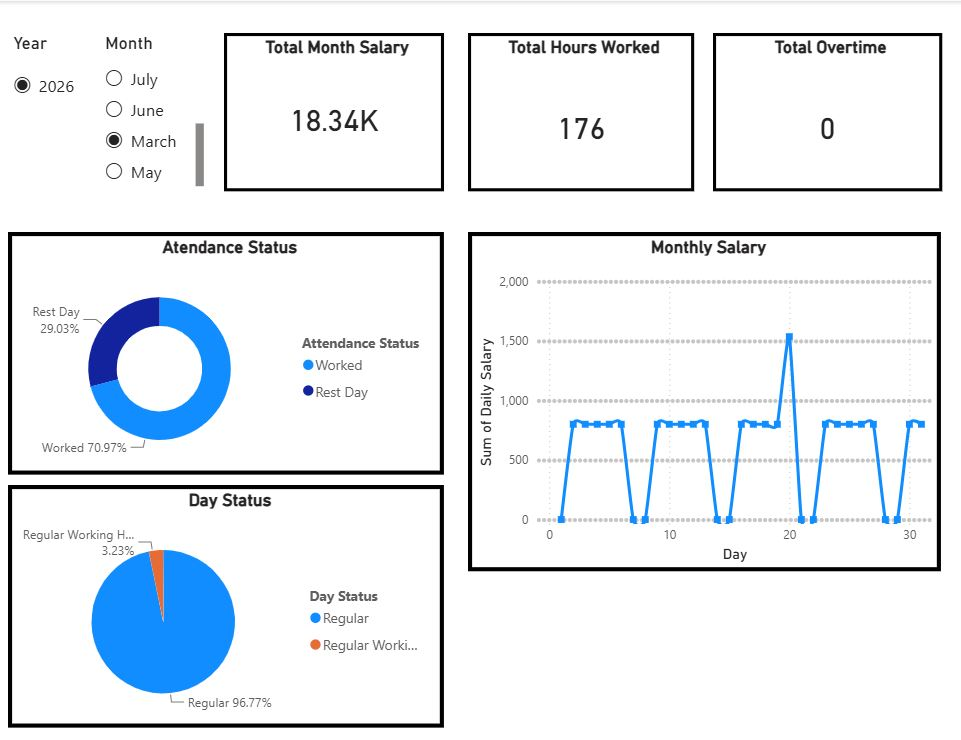

This screenshot's page, from the dashboard's own definition file:
{"tool":"powerbi","page":{"name":"Page 1","canvas":[1280,720],"ordinal":0},"visuals":[{"type":"kpi","title":"Total Month Salary","fields":{"Indicator":["Sum(Daily Time Record.Daily Salary)"],"TrendLine":["Daily Time Record.Month"]},"box":[220,31.4,214.3,154.3],"z":0},{"type":"listSlicer","fields":{"Values":["Daily Time Record.Month"]},"box":[99.2,31.1,106,154.7],"z":1000},{"type":"listSlicer","fields":{"Values":["Daily Time Record.Year"]},"box":[9.7,31.1,89.5,154.7],"z":2000},{"type":"kpi","title":"Total Hours Worked","fields":{"Indicator":["Sum(Daily Time Record.Work Hours)"],"TrendLine":["Daily Time Record.Month"]},"box":[457.1,31.4,220,154.3],"z":3000},{"type":"kpi","title":"Total Overtime","fields":{"Indicator":["Sum(Daily Time Record.Overtime)"],"TrendLine":["Calendaryo.Month"]},"box":[695.7,31.4,222.9,154.3],"z":4000},{"type":"donutChart","title":"Atendance Status","fields":{"Category":["Daily Time Record.Attendance Status"],"Y":["CountNonNull(Daily Time Record.Attendance Status)"]},"box":[10,224.8,423.7,235.8],"z":6000},{"type":"pieChart","title":"Day Status","fields":{"Category":["Daily Time Record.Day Status"],"Y":["CountNonNull(Daily Time Record.Day Status)"]},"box":[10,471,424,236],"z":7000},{"type":"lineChart","title":"Monthly Salary","fields":{"Y":["Sum(Daily Time Record.Daily Salary)"],"Category":["Daily Time Record.Date.Variation.Date Hierarchy.Day"]},"box":[457.1,224.3,460,330],"z":8000}]}

Visuals, with their boxes on the page's 1280x720 design canvas (x1, y1, x2, y2). These are canvas units, not pixel positions in the 961x740 screenshot, which may show the page scaled, cropped or inside an application window:
"Total Month Salary" kpi: 220 31 434 186
listSlicer - Daily Time Record.Month: 99 31 205 186
listSlicer - Daily Time Record.Year: 10 31 99 186
"Total Hours Worked" kpi: 457 31 677 186
"Total Overtime" kpi: 696 31 919 186
"Atendance Status" donutChart: 10 225 434 461
"Day Status" pieChart: 10 471 434 707
"Monthly Salary" lineChart: 457 224 917 554
